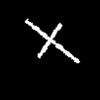single_crochet: (25, 19, 79, 62)
